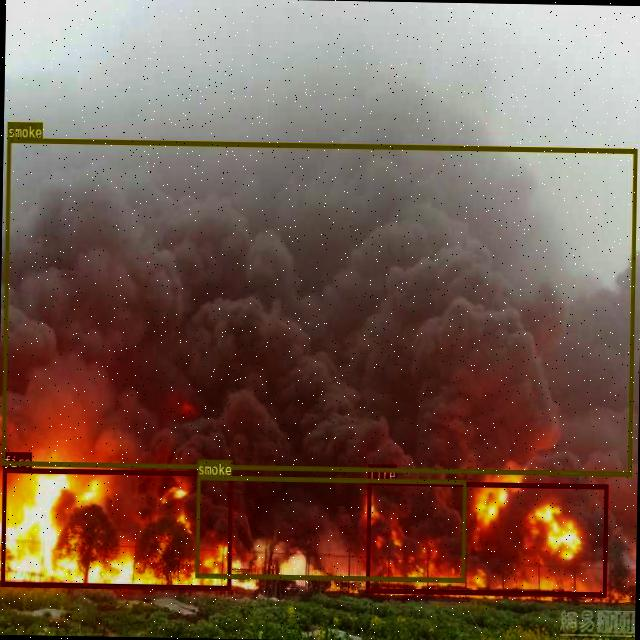fire: (0, 467, 232, 589), (364, 480, 606, 596)
smoke: (0, 137, 636, 475), (194, 474, 466, 581)
